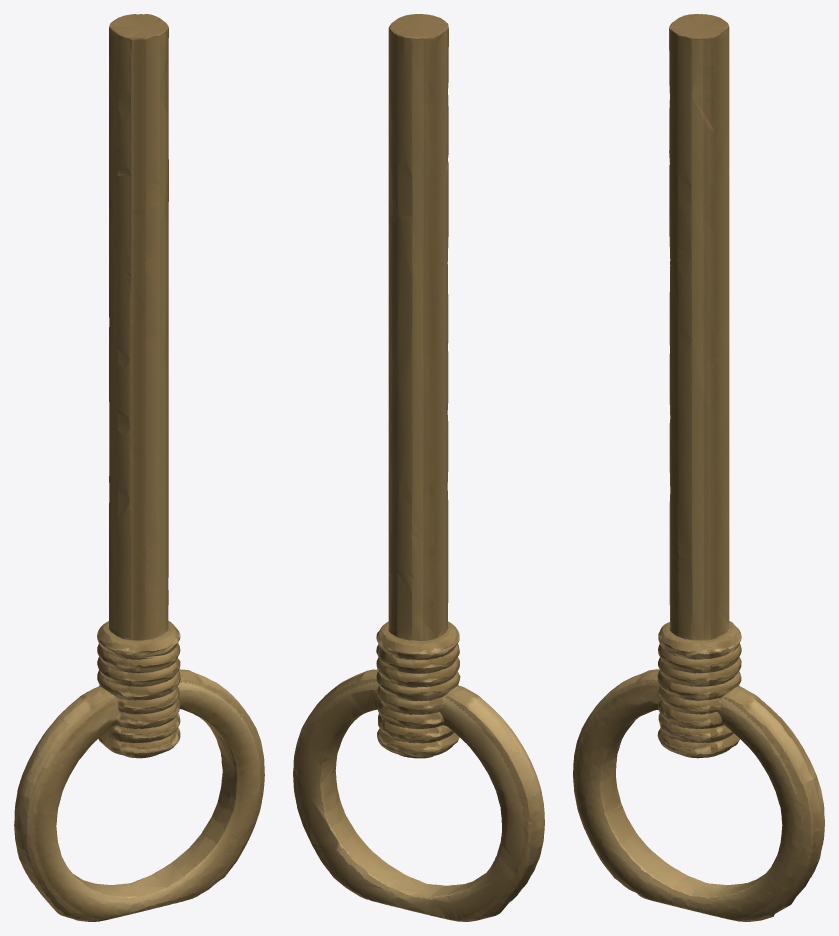
Rendered from scene-8-objects-1-glbData-9149a444e92f.glb.
3 renders of one model, left to right at view 1: azimuth 30°, elevation 25°; view 2: azimuth 150°, elevation 25°; view 3: azimuth 330°, elevation 25°, orthographic.
Parts seen in each view (by area): view 1: Gallows_Rope_Optimized; view 2: Gallows_Rope_Optimized; view 3: Gallows_Rope_Optimized.
Boxes of the visible parts, x1,y1,x2,y2 form: Gallows_Rope_Optimized: (14,14,264,921); Gallows_Rope_Optimized: (293,14,544,921); Gallows_Rope_Optimized: (573,14,824,921).
Size of the model in its own units: 0.61 by 2.1 by 0.18.
Materials: 1 (1 with a texture image).
